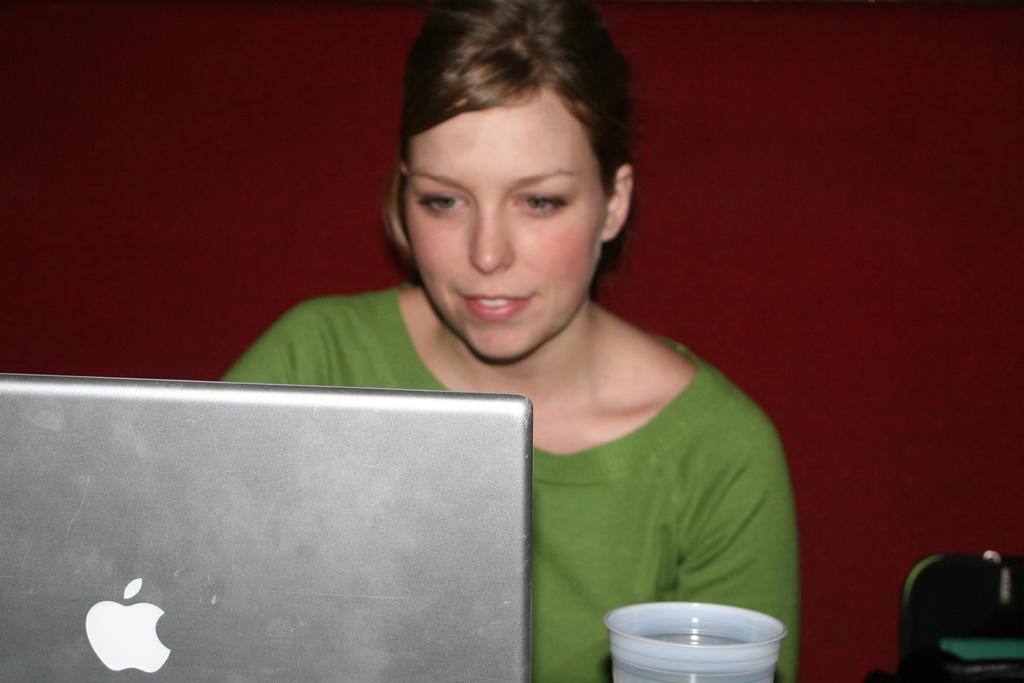Laptop: (8, 388, 603, 680)
